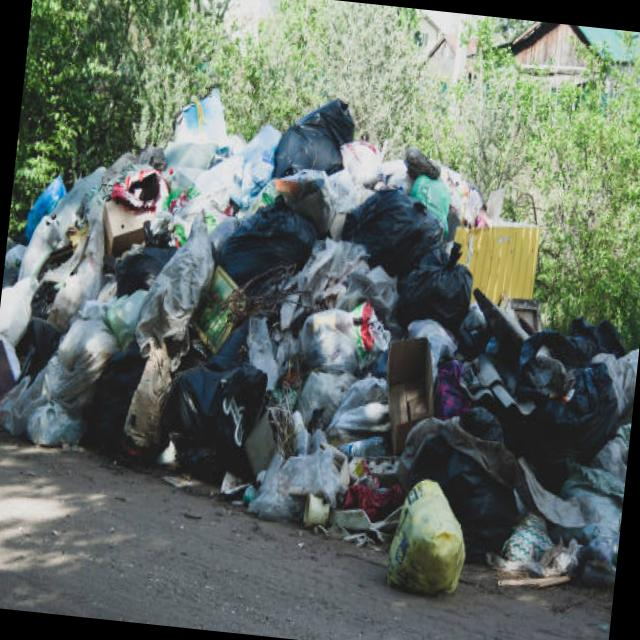garbage: (0, 69, 640, 608)
